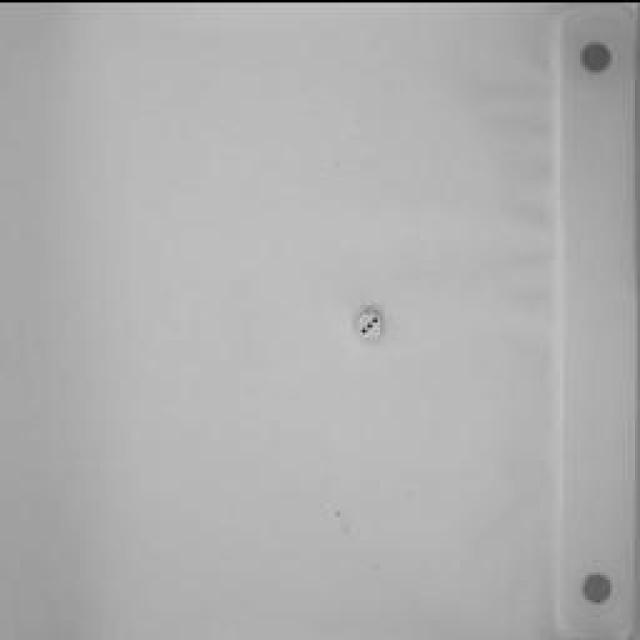dice_3: (360, 305, 385, 335)
